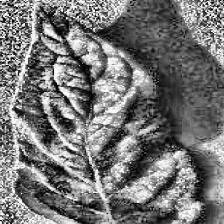spider mites: (12, 1, 201, 224)
